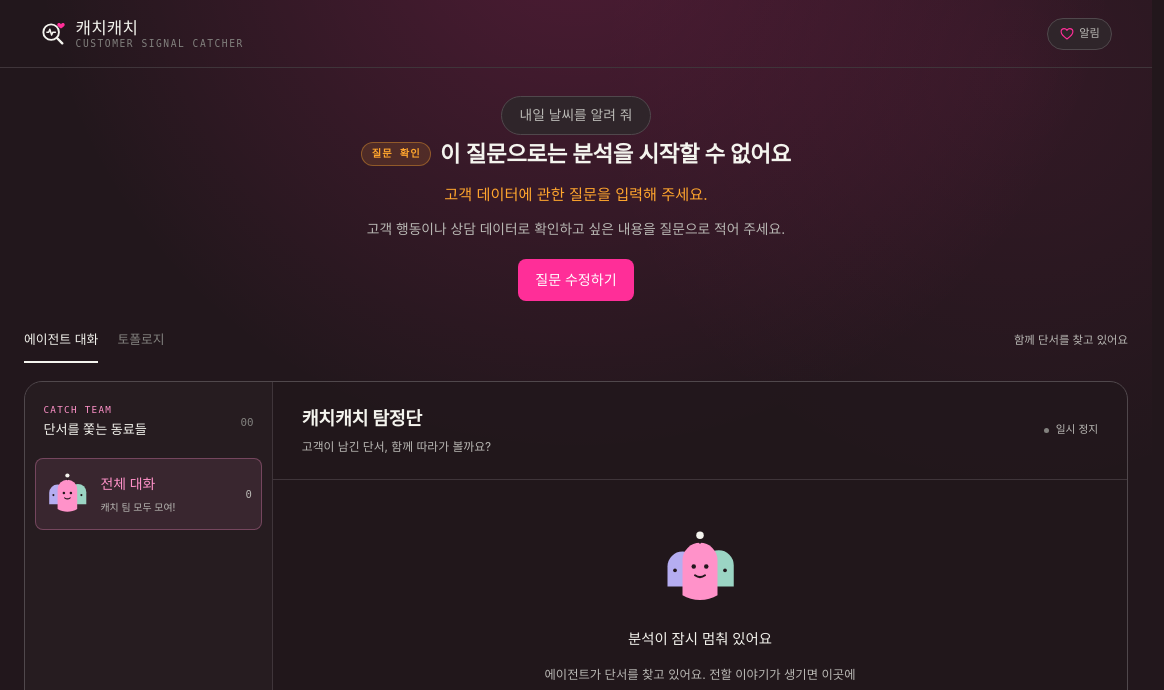
opens the populated briefing composer with the blocked question ready to edit
Click the button "질문 수정하기": [576, 280] box [518,259,634,301]
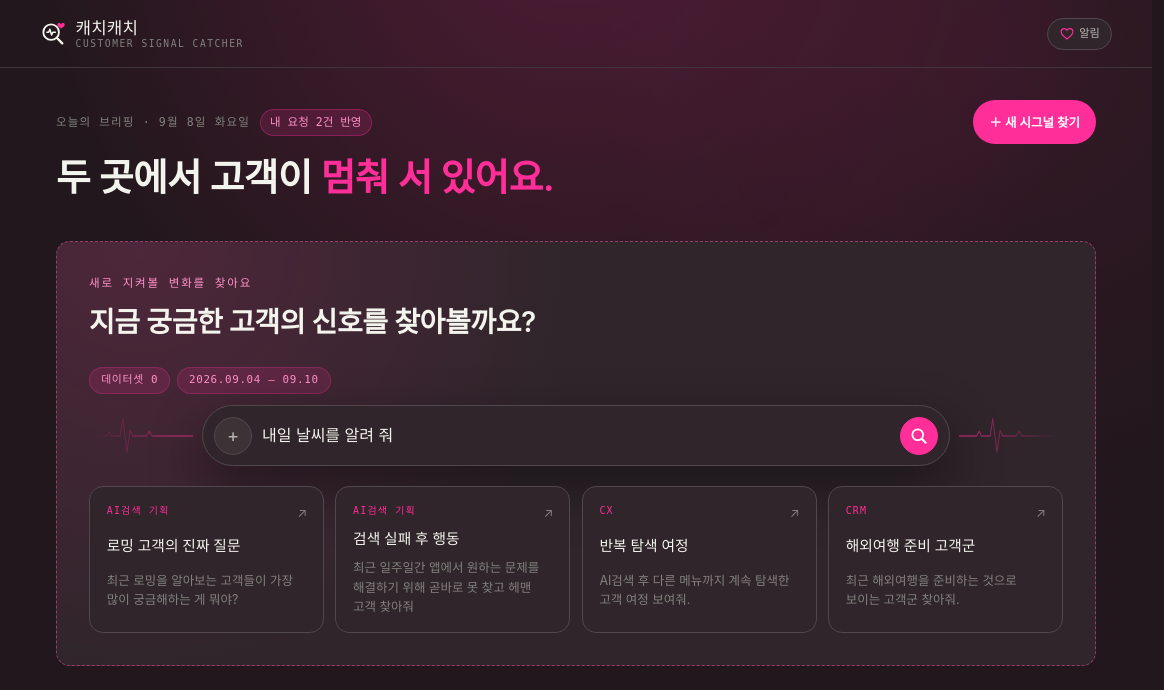
Check: the text box named "분석 질문" holds "내일 날씨를 알려 줘", box [262,417,890,454]
Check: the heading "지금 궁금한 고객의 신호를 찾아볼까요?" is shown, box [89,302,593,343]
